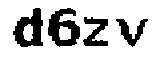6: (46, 5, 82, 50)
d: (7, 5, 44, 55)
v: (112, 14, 147, 49)
z: (81, 13, 109, 49)
